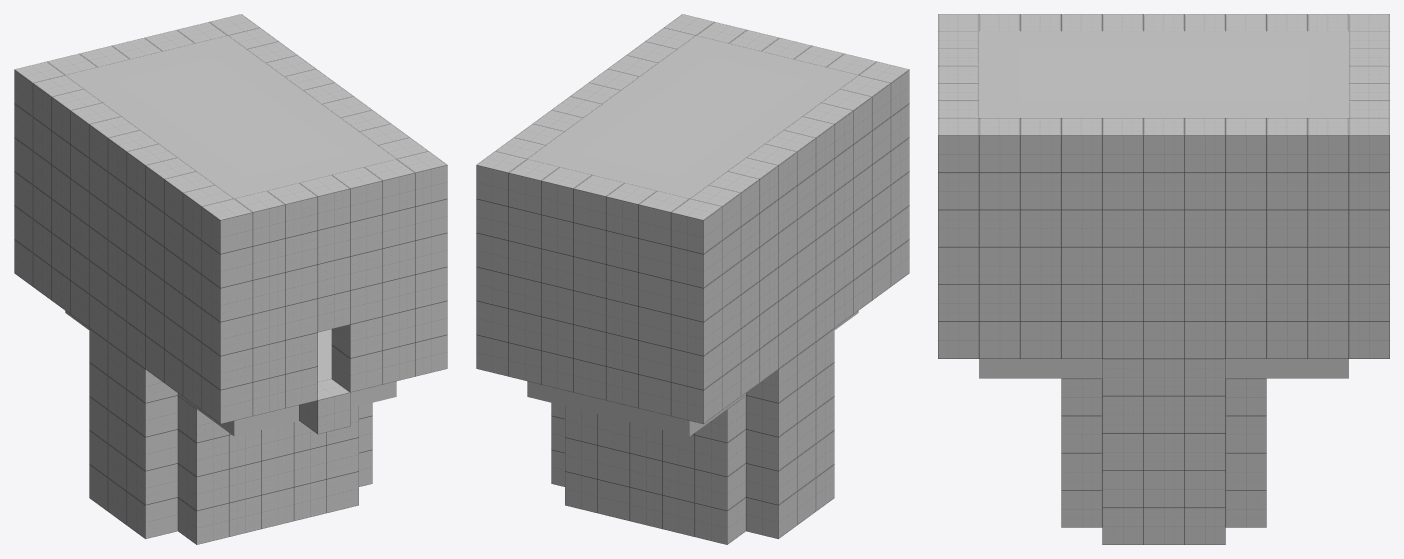
The model's file is Level_1 (5).fbx.
The picture shows the model from 3 angles, left to right: view 1: azimuth 30°, elevation 25°; view 2: azimuth 150°, elevation 25°; view 3: azimuth 270°, elevation 25°; orthographic projection. The views are drawn at different scales.
Parts seen in each view (by area): view 1: Box610, Box740, Box729, Box764, Box769, Box513, Box481, Box497, Box465, Box482, Box498, Box514 (+27 smaller); view 2: Box610, Box740, Box729, Box764, Box511, Box479, Box495, Box463, Box478, Box494, Box510, Box439 (+28 smaller); view 3: Box610, Box740, Box729, Box764, Box456, Box471, Box472, Box473, Box488, Box504, Box506, Box518 (+21 smaller).
Part boxes in pixels (x1=…): Box610: x1=14, y1=14, x2=447, y2=423; Box740: x1=117, y1=57, x2=344, y2=176; Box729: x1=85, y1=43, x2=377, y2=190; Box764: x1=66, y1=35, x2=395, y2=198; Box769: x1=299, y1=379, x2=350, y2=434; Box513: x1=126, y1=492, x2=177, y2=538; Box481: x1=126, y1=424, x2=177, y2=471; Box497: x1=126, y1=458, x2=177, y2=504; Box465: x1=126, y1=390, x2=177, y2=437; Box482: x1=178, y1=429, x2=228, y2=476; Box498: x1=178, y1=463, x2=228, y2=510; Box514: x1=178, y1=497, x2=228, y2=544; Box610: x1=476, y1=14, x2=909, y2=423; Box740: x1=579, y1=57, x2=806, y2=176; Box729: x1=546, y1=43, x2=838, y2=190; Box764: x1=528, y1=35, x2=857, y2=198; Box511: x1=746, y1=492, x2=797, y2=538; Box479: x1=746, y1=424, x2=797, y2=471; Box495: x1=746, y1=458, x2=797, y2=504; Box463: x1=746, y1=390, x2=797, y2=437; Box478: x1=695, y1=429, x2=745, y2=476; Box494: x1=695, y1=463, x2=745, y2=510; Box510: x1=695, y1=497, x2=745, y2=544; Box439: x1=746, y1=356, x2=797, y2=403; Box610: x1=938, y1=14, x2=1389, y2=358; Box740: x1=1020, y1=48, x2=1307, y2=100; Box729: x1=979, y1=31, x2=1348, y2=117; Box764: x1=979, y1=31, x2=1348, y2=117; Box456: x1=1143, y1=396, x2=1184, y2=433; Box471: x1=1102, y1=433, x2=1143, y2=470; Box472: x1=1143, y1=433, x2=1184, y2=470; Box473: x1=1184, y1=433, x2=1225, y2=470; Box488: x1=1143, y1=470, x2=1184, y2=507; Box504: x1=1143, y1=507, x2=1184, y2=544; Box506: x1=1225, y1=490, x2=1266, y2=527; Box518: x1=1061, y1=490, x2=1102, y2=527.
Size of the model in its own units: 14 by 22 by 22.
